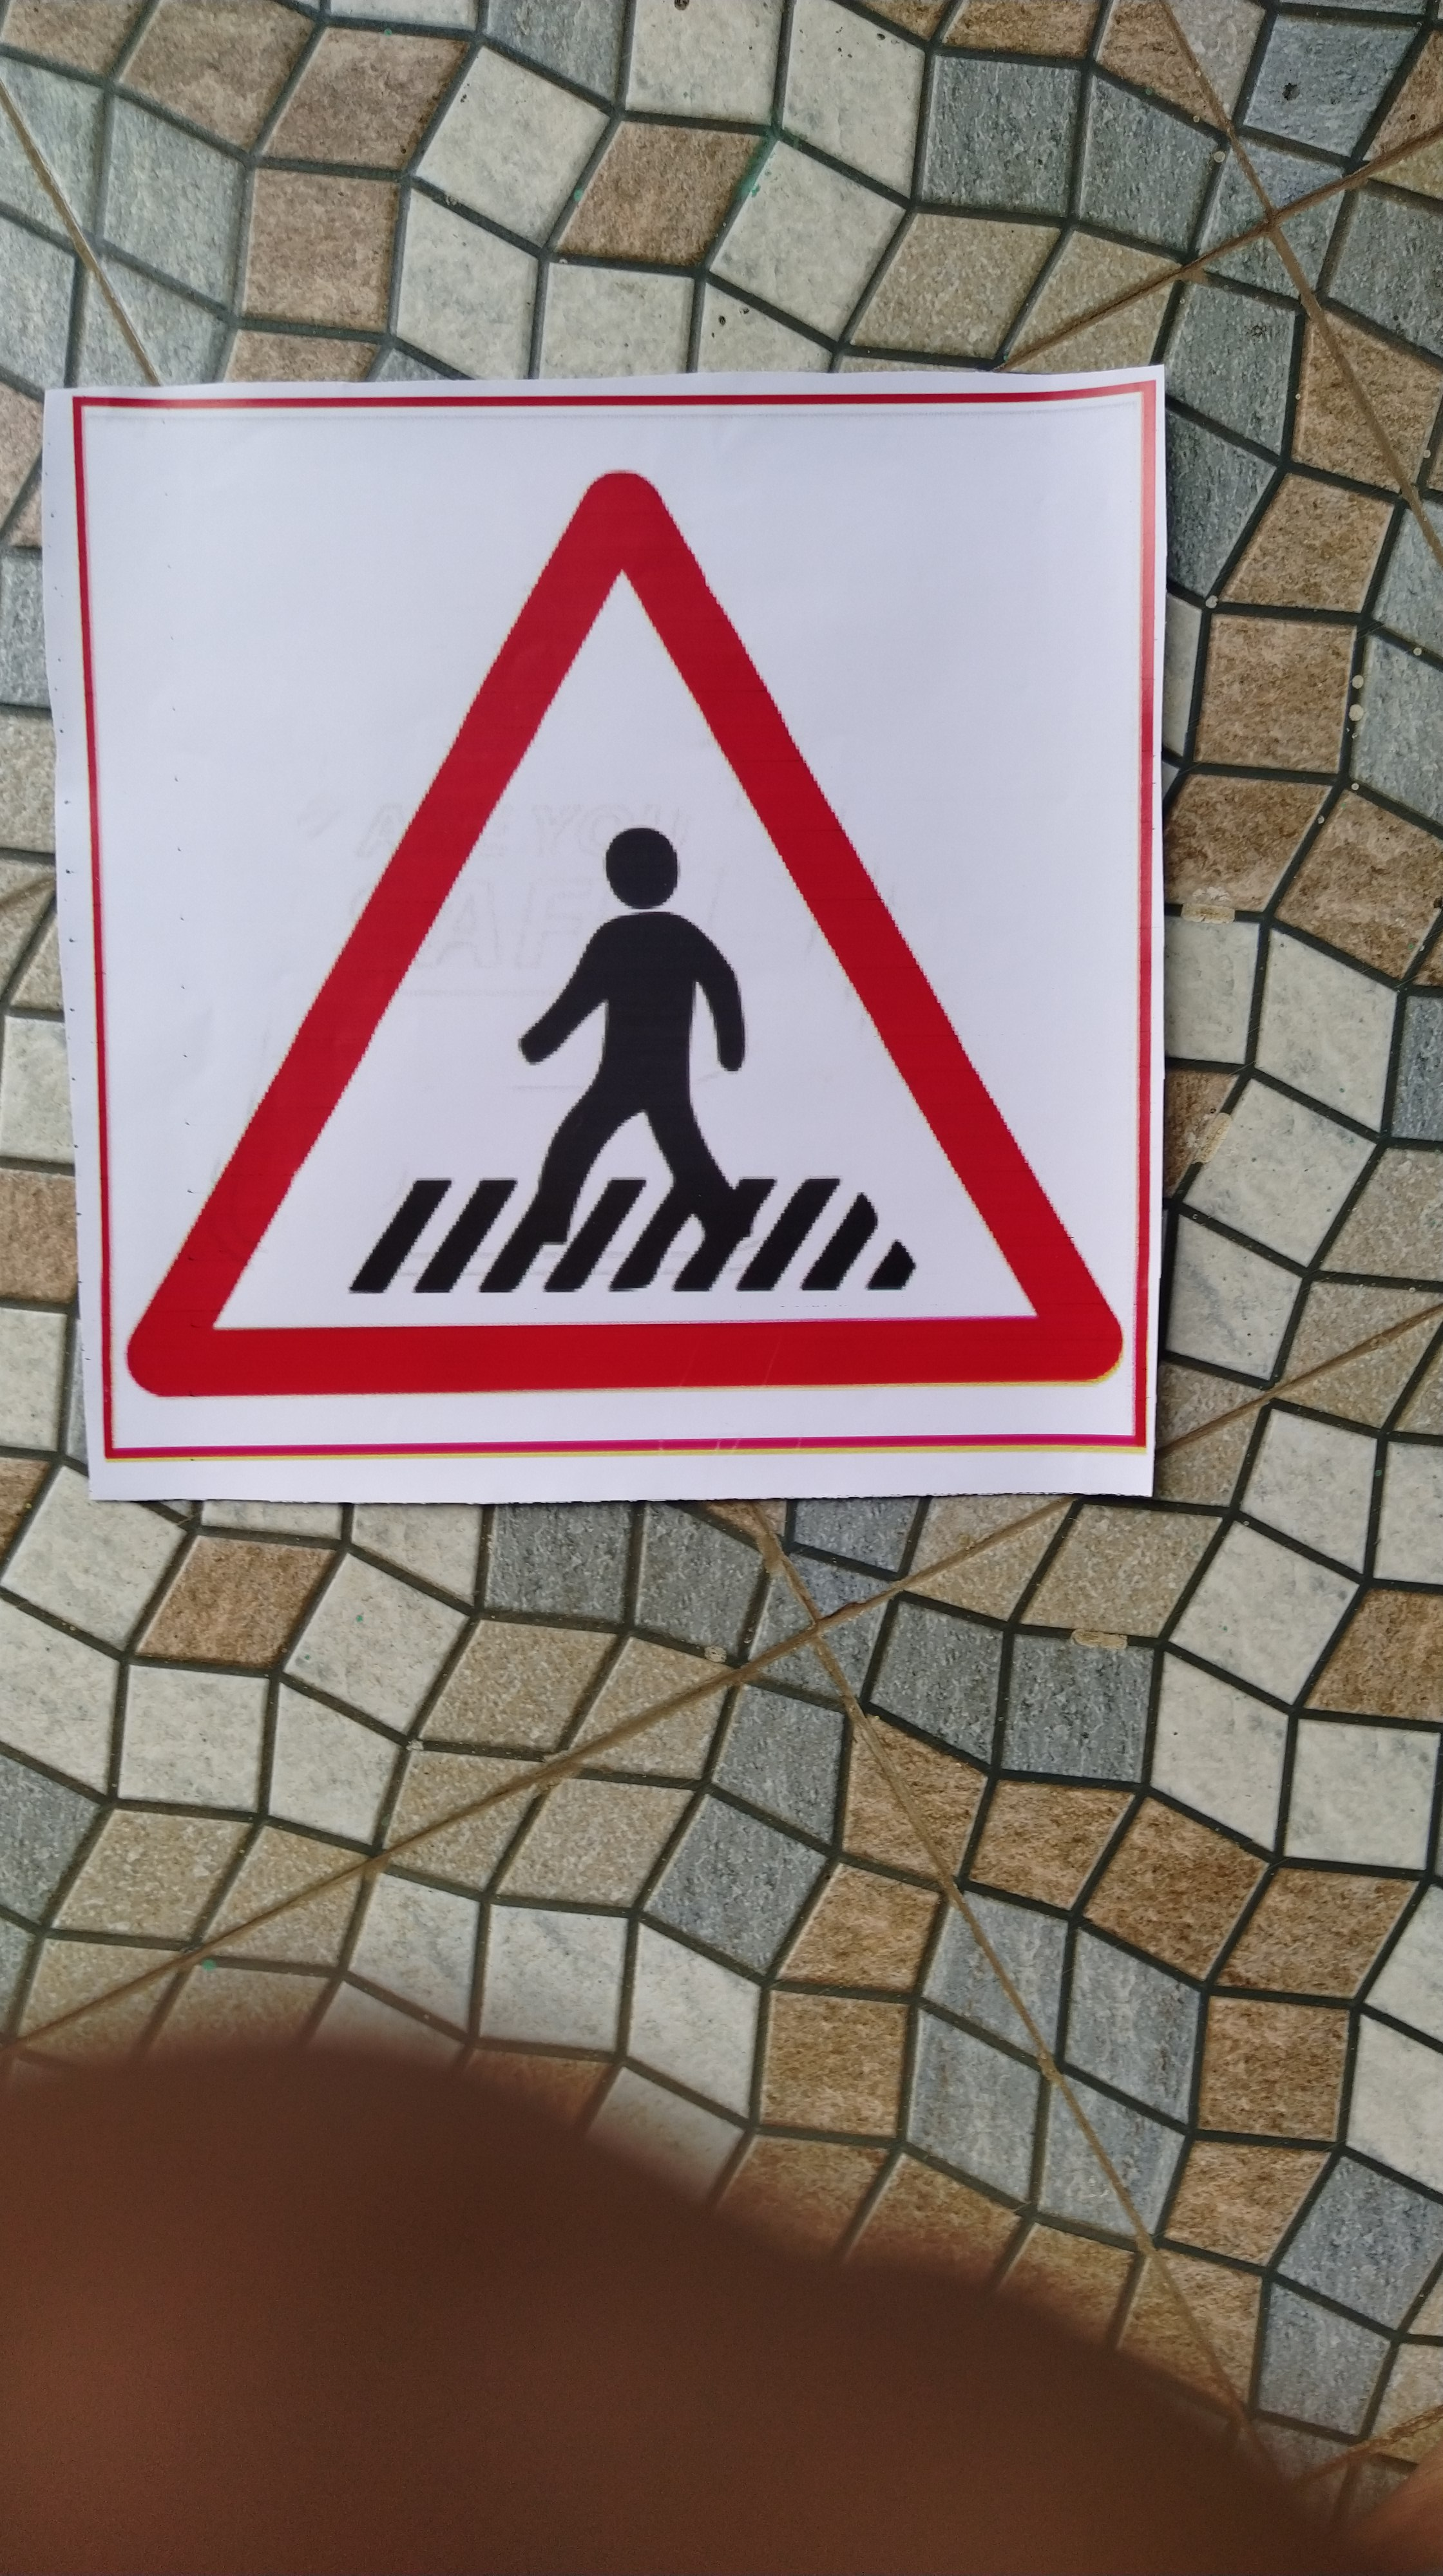pedestrain crossing: (122, 439, 1137, 1566), (81, 414, 1112, 1430)
